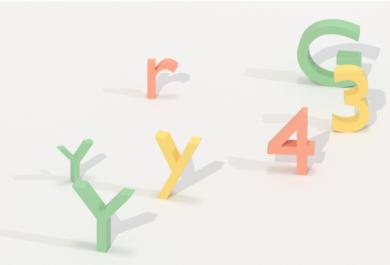3: (328, 62, 373, 137)
4: (262, 103, 319, 182)
G: (294, 13, 366, 90)
Y: (70, 178, 137, 256), (56, 135, 98, 185)
r: (143, 52, 183, 104)
y: (150, 127, 205, 205)
